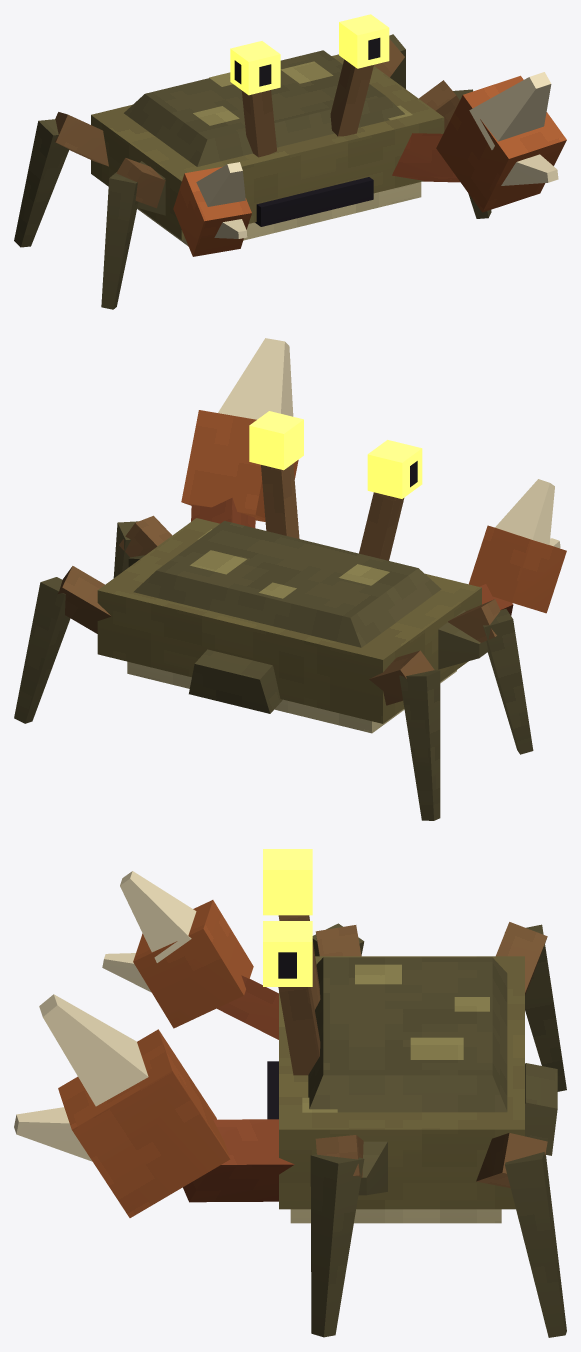
Rendered from mob_crab.glb.
The picture shows the model from 3 angles, top to bottom: view 1: azimuth 30°, elevation 25°; view 2: azimuth 150°, elevation 25°; view 3: azimuth 270°, elevation 25°; orthographic projection. The views are drawn at different scales.
Visible parts, largest first — view 1: mob_crab, leg_br, leg_fr, glow_eyes, leg_fl, leg_bl; view 2: mob_crab, leg_br, leg_bl, glow_eyes, leg_fr, sway_tail, leg_fl; view 3: mob_crab, leg_fl, leg_bl, glow_eyes, leg_br, sway_tail, leg_fr.
Boxes of the visible parts, x1,y1,x2,y2 form: mob_crab: (91, 37, 566, 256); leg_br: (14, 112, 108, 247); leg_fr: (101, 158, 165, 309); glow_eyes: (230, 14, 389, 95); leg_fl: (419, 80, 491, 218); leg_bl: (374, 34, 405, 88); mob_crab: (97, 338, 566, 733); leg_br: (369, 650, 440, 820); leg_bl: (14, 566, 111, 723); glow_eyes: (249, 411, 422, 498); leg_fr: (448, 599, 533, 754); sway_tail: (189, 649, 282, 713); leg_fl: (113, 515, 172, 577); mob_crab: (14, 871, 524, 1223); leg_fl: (310, 1135, 364, 1337); leg_bl: (476, 1133, 566, 1337); glow_eyes: (263, 849, 312, 986); leg_br: (496, 922, 566, 1091); sway_tail: (525, 1063, 557, 1155); leg_fr: (312, 923, 364, 956).
Bounding box in the file's own units: 1.04 × 0.5989 × 0.9438.
Materials: 10 (7 with a texture image).
